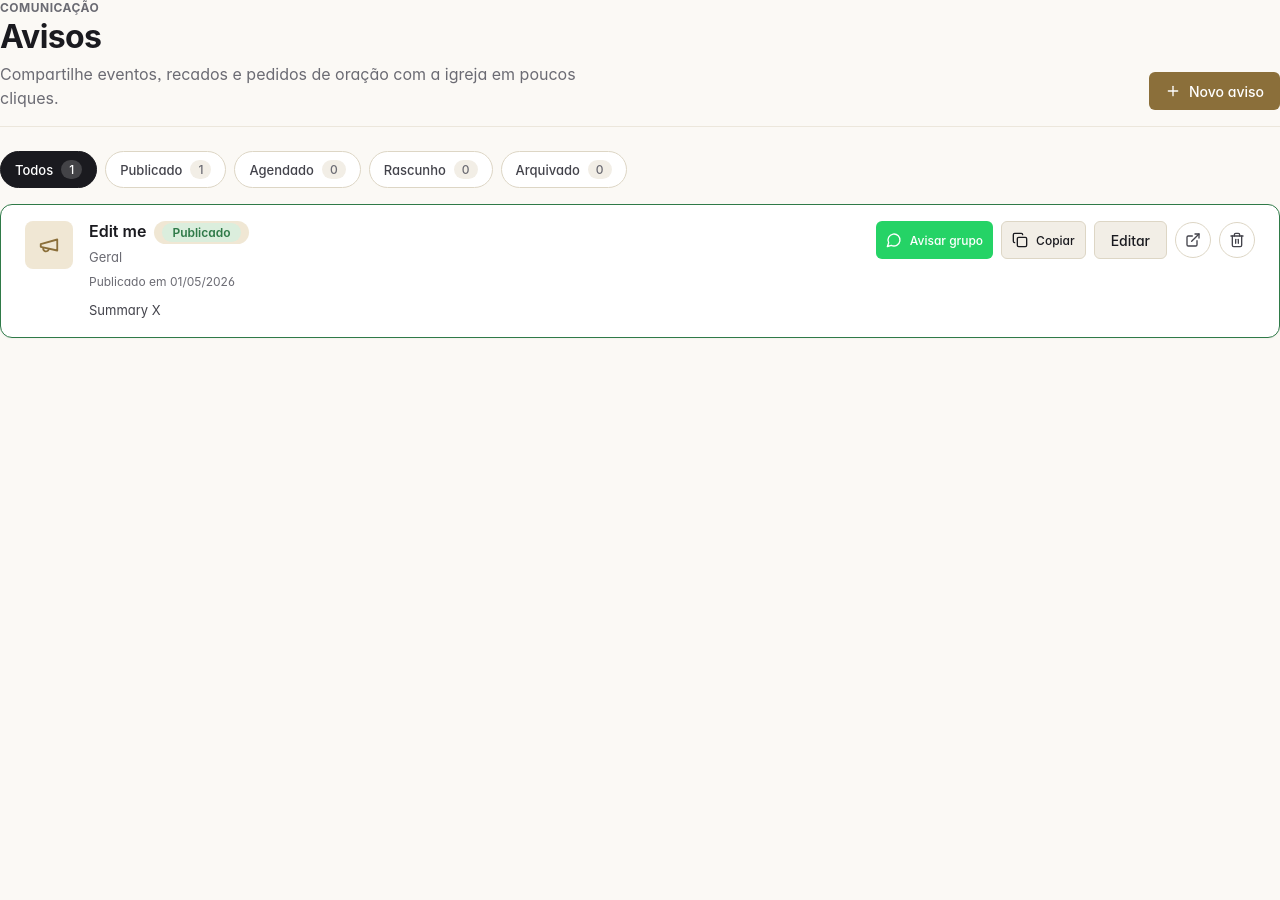
Test case: AnnouncementsView › starts editing when 'Editar' is clicked and pre-fills form
This screenshot has width=1280, height=900.
Click the button "Editar" at (1130, 240), box [1094,221,1167,259]
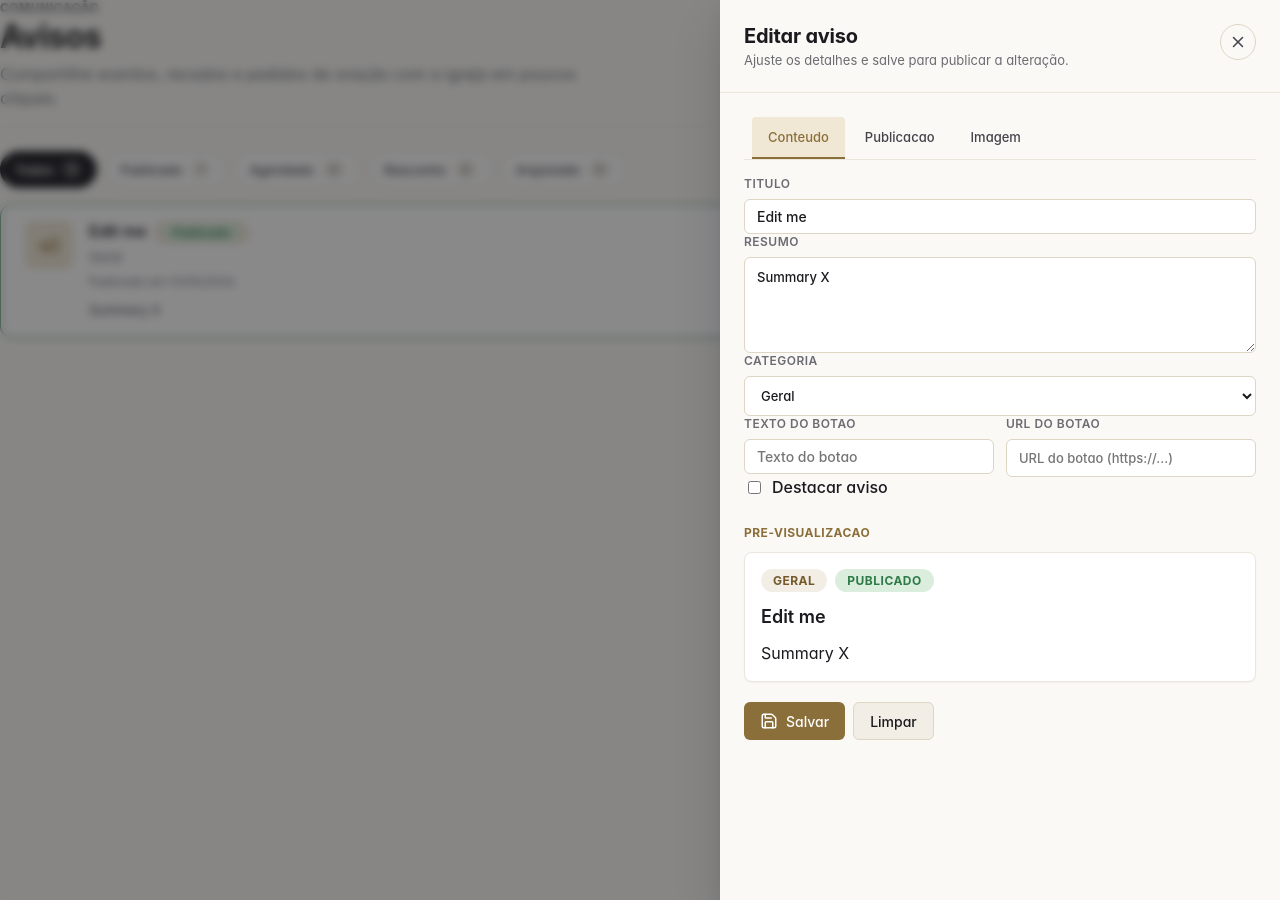
Check: the field labelled "Titulo" holds "Edit me", box [744,199,1256,234]
